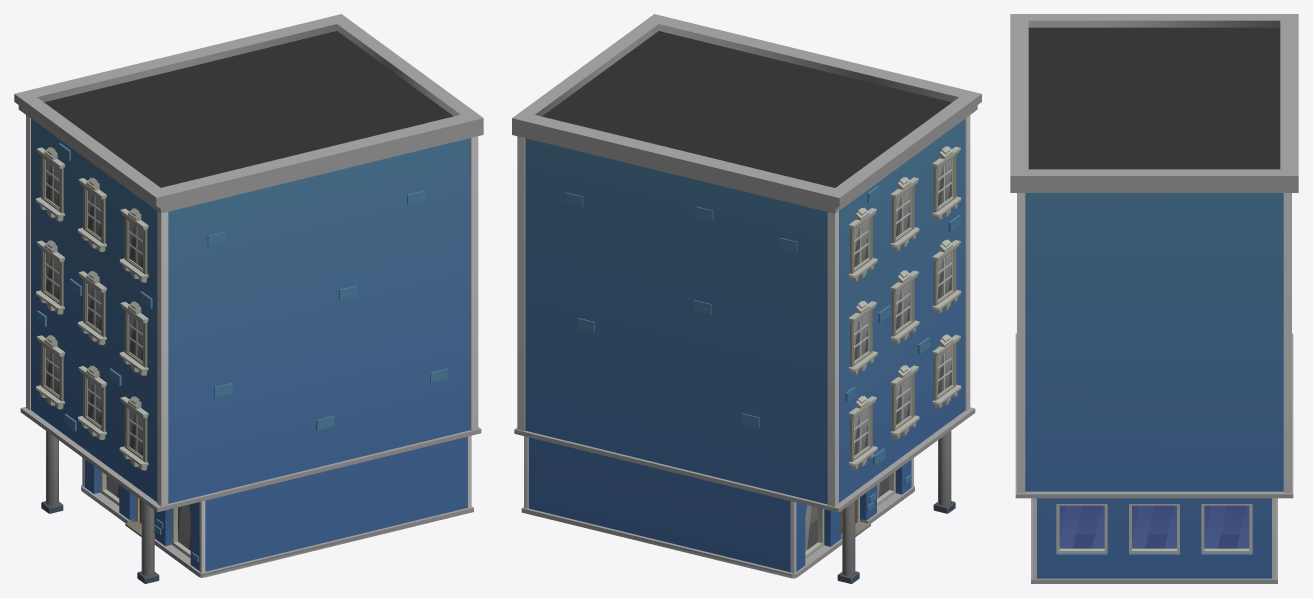
The model's file is Building_4_J.fbx.
3 renders of one model, left to right at view 1: azimuth 30°, elevation 25°; view 2: azimuth 150°, elevation 25°; view 3: azimuth 270°, elevation 25°, orthographic.
Visible parts, largest first — view 1: Building_4_J; view 2: Building_4_J; view 3: Building_4_J.
Part boxes in pixels (bbox=[...]): Building_4_J: bbox=[14, 14, 483, 583]; Building_4_J: bbox=[512, 14, 981, 583]; Building_4_J: bbox=[1010, 14, 1298, 583].
Size of the model in its own units: 1585 by 1855 by 1191.
